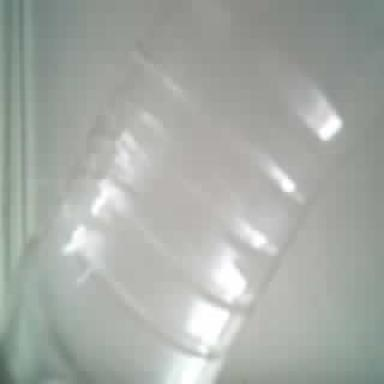bottle: (5, 0, 358, 382)
